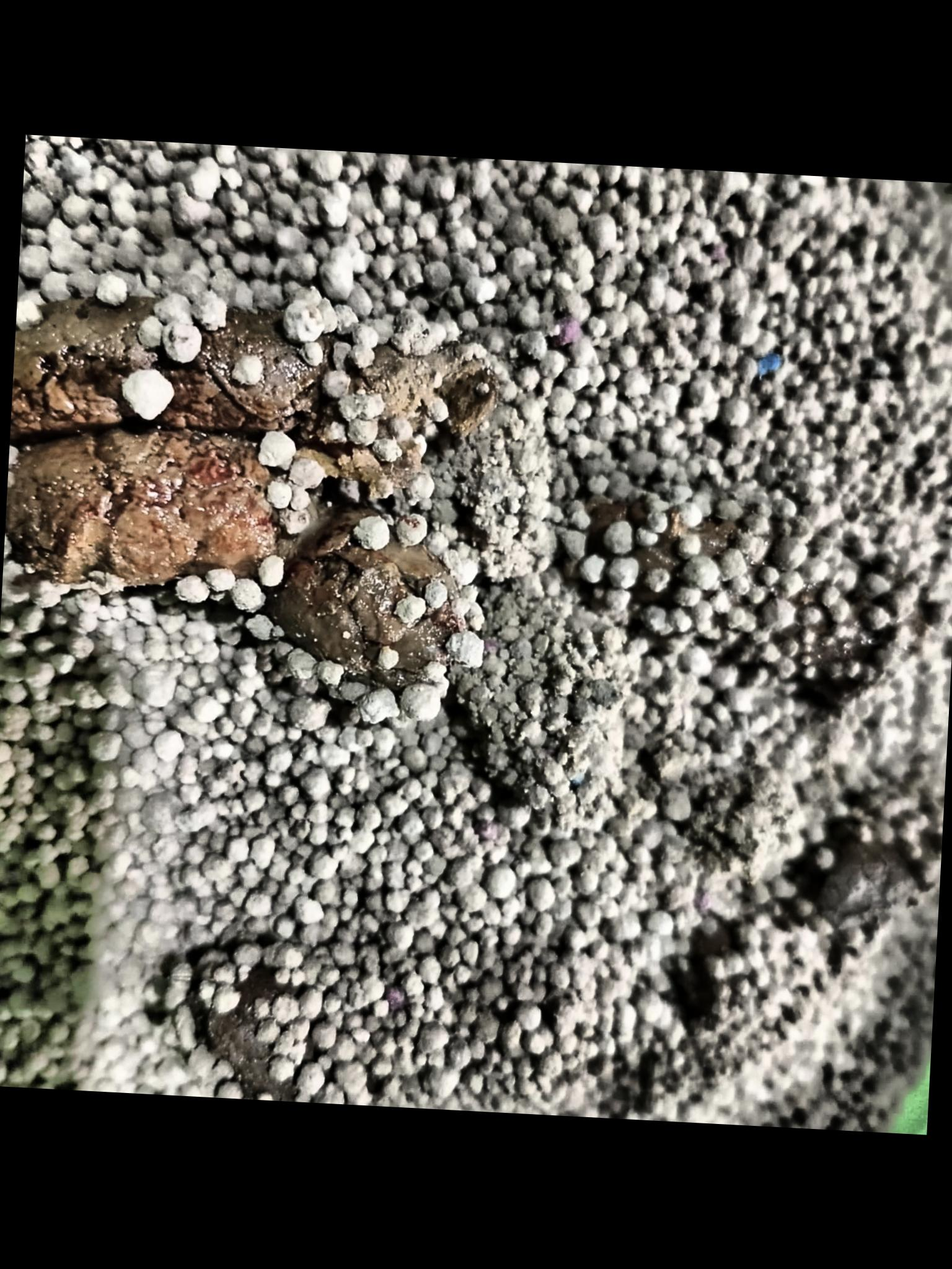litter_sand: (454, 581, 633, 825)
poop: (5, 290, 498, 722), (648, 758, 945, 1089), (567, 496, 927, 696), (204, 967, 294, 1101)
